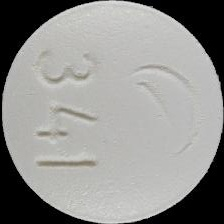0179-0120: (0, 0, 224, 224)
